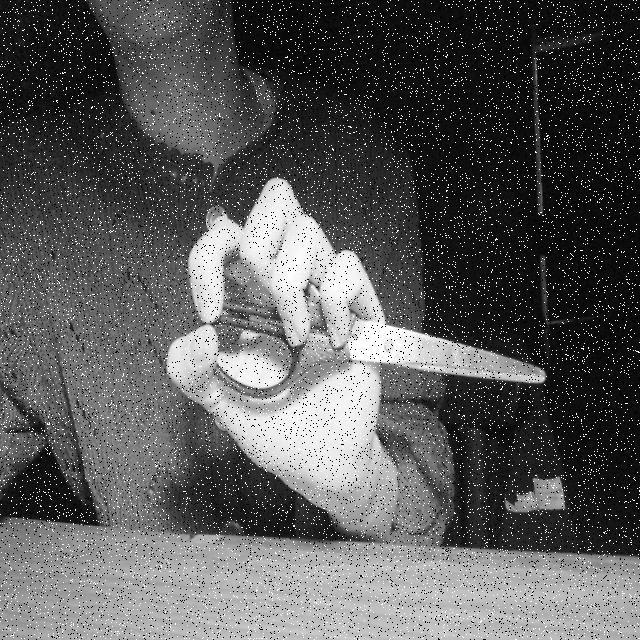scissors: (196, 235, 551, 404)
